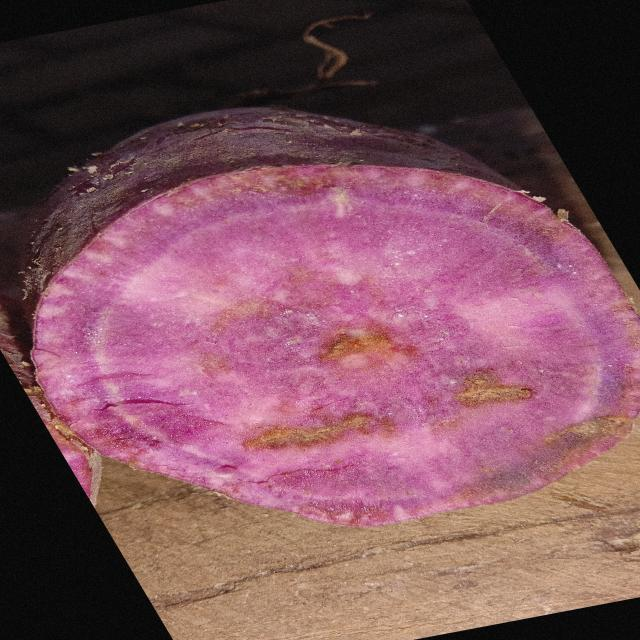Sick Sweet Potato_Tuber Rot: (33, 166, 638, 526)
